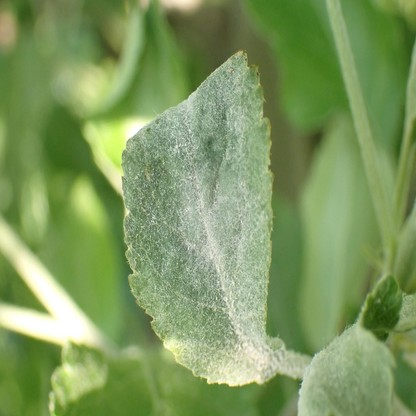powdery_mildew: (121, 52, 285, 386), (297, 322, 396, 416), (394, 293, 416, 331)
